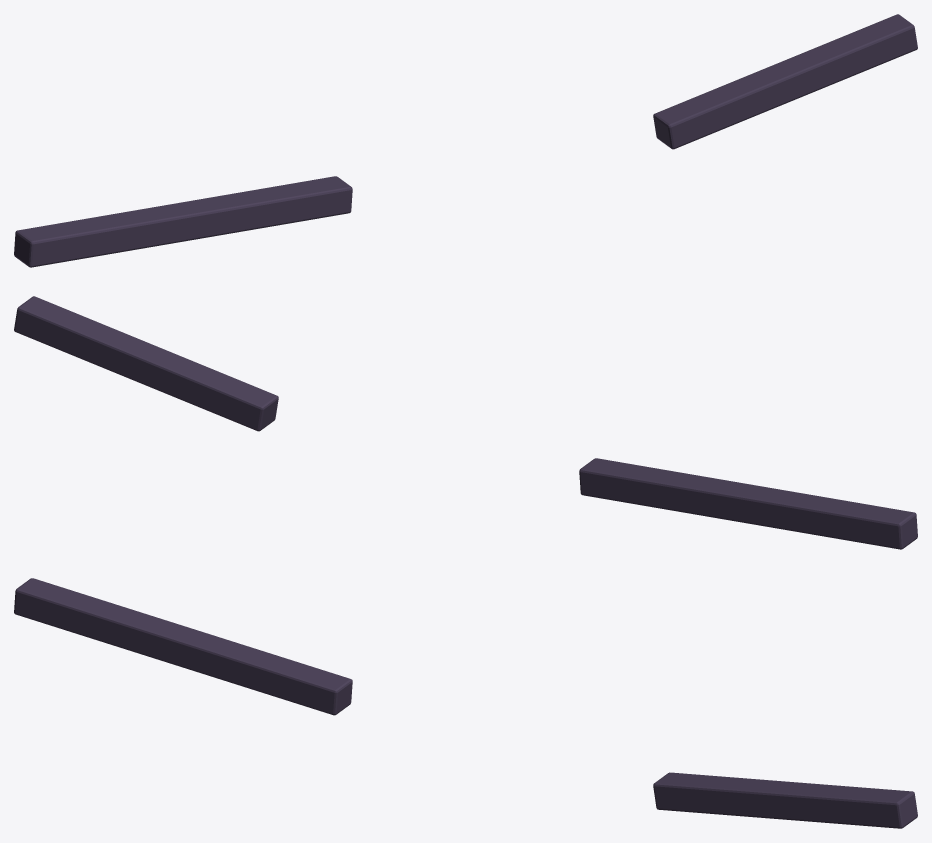
The model's file is Gates_StoneDark.fbx.
3 renders of one model, top to bottom at view 1: azimuth 30°, elevation 25°; view 2: azimuth 150°, elevation 25°; view 3: azimuth 330°, elevation 25°, orthographic.
Parts seen in each view (by area): view 1: EntryLintelL.001; view 2: EntryLintelL.001; view 3: EntryLintelL.001.
Boxes of the visible parts, bbox=[...] form: EntryLintelL.001: bbox=[14, 14, 917, 267]; EntryLintelL.001: bbox=[14, 296, 917, 549]; EntryLintelL.001: bbox=[14, 578, 917, 828].
Bounding box in the file's own units: 12105 × 858 × 400.
